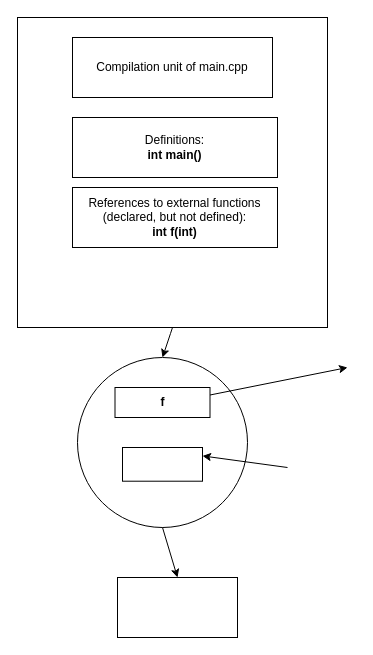
This 373x655 diagram has some shape labels left out. The box of each missing label's shape, as (x1, y1, x2, y2) in pixels:
Can't find an f in any of the compilation units.: (116, 576, 238, 638)
main: (122, 446, 202, 481)
